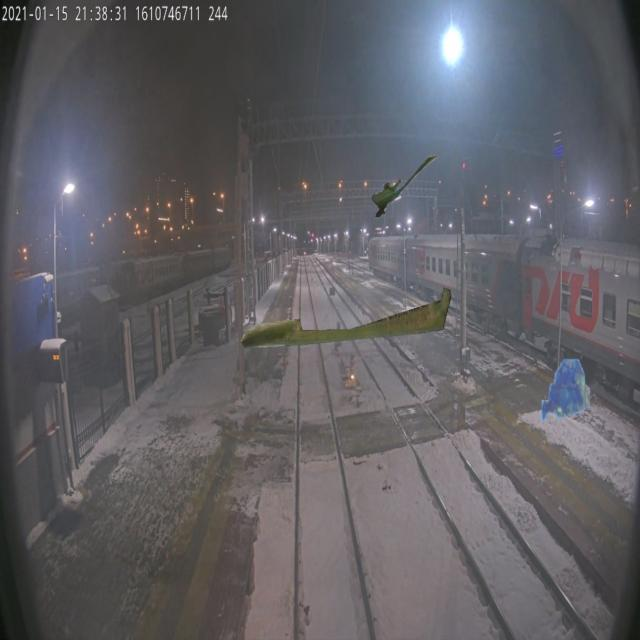floating object: (240, 284, 459, 348), (372, 153, 438, 217)
plastic bag: (541, 358, 592, 422)
